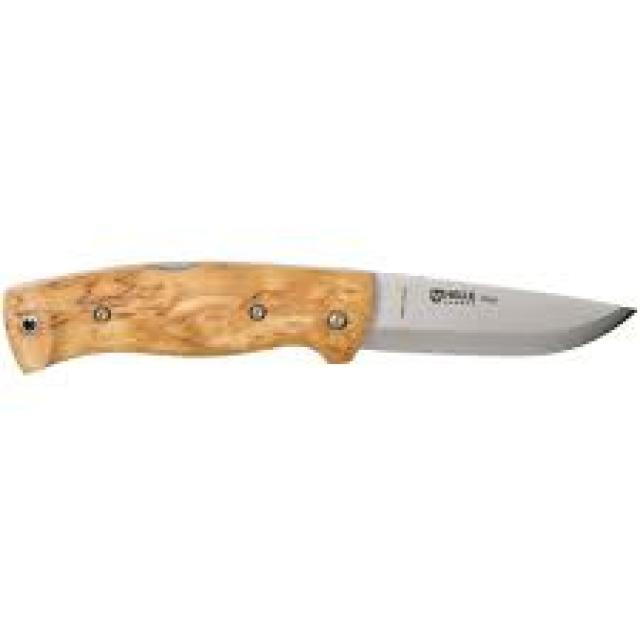knife: (1, 250, 640, 382)
